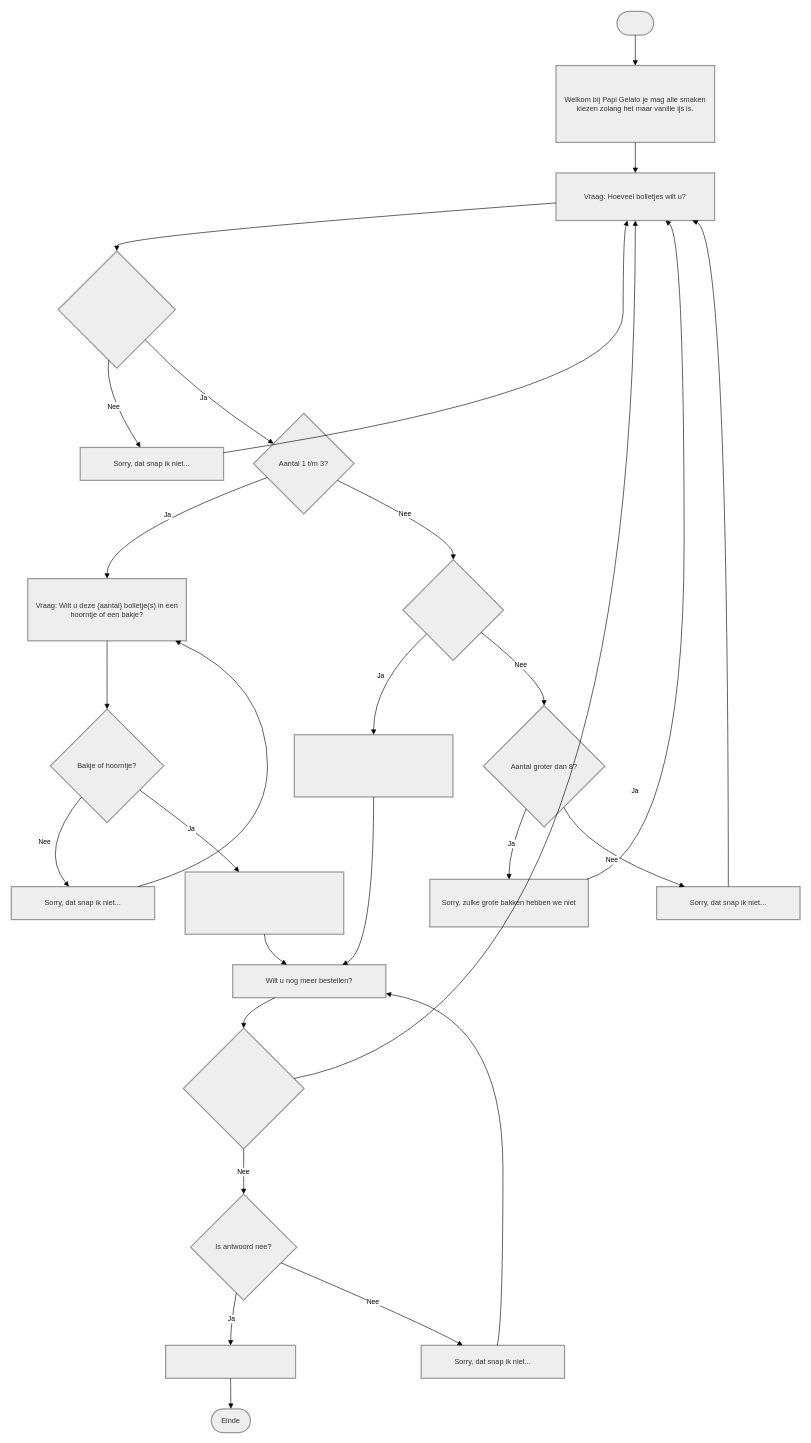
Some shapes in this 811 by 1443 pixel diagram are drawn without their labels. Here are the shapes that lost their labels. From the top down, the box of each, then its label:
(616, 10, 654, 35): Start
(57, 250, 176, 368): Is invoer een getal?
(402, 559, 504, 661): Aantal 4 t/m 8?
(293, 734, 453, 797): Dan krijgt u van mij een bakje met {aantal} bolletjes
(184, 871, 344, 935): Hier is uw {hoorntje/bakje} met {aantal} bolletje(s).
(182, 1027, 304, 1149): Antwoord ja of nee?
(165, 1344, 296, 1379): Bedankt en tot ziens!
